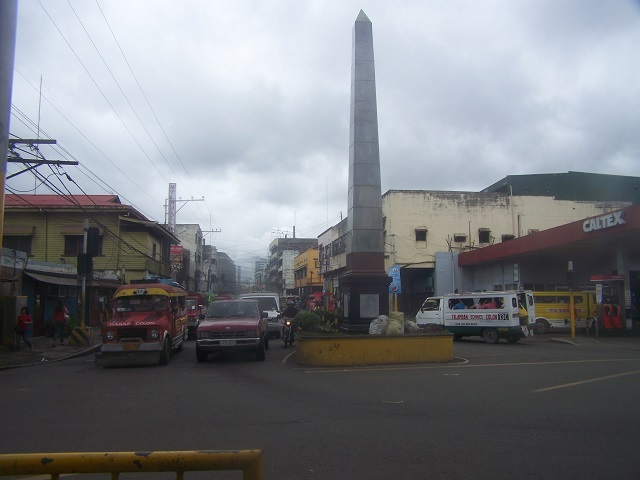bike: (281, 317, 296, 346)
car: (103, 278, 187, 362), (415, 290, 538, 340), (198, 299, 268, 359)
person: (15, 307, 37, 349), (51, 298, 67, 347), (281, 301, 299, 322)
pole: (77, 276, 90, 342), (568, 261, 577, 339)
traffic light: (88, 227, 99, 255), (77, 253, 91, 274), (567, 270, 575, 289)
